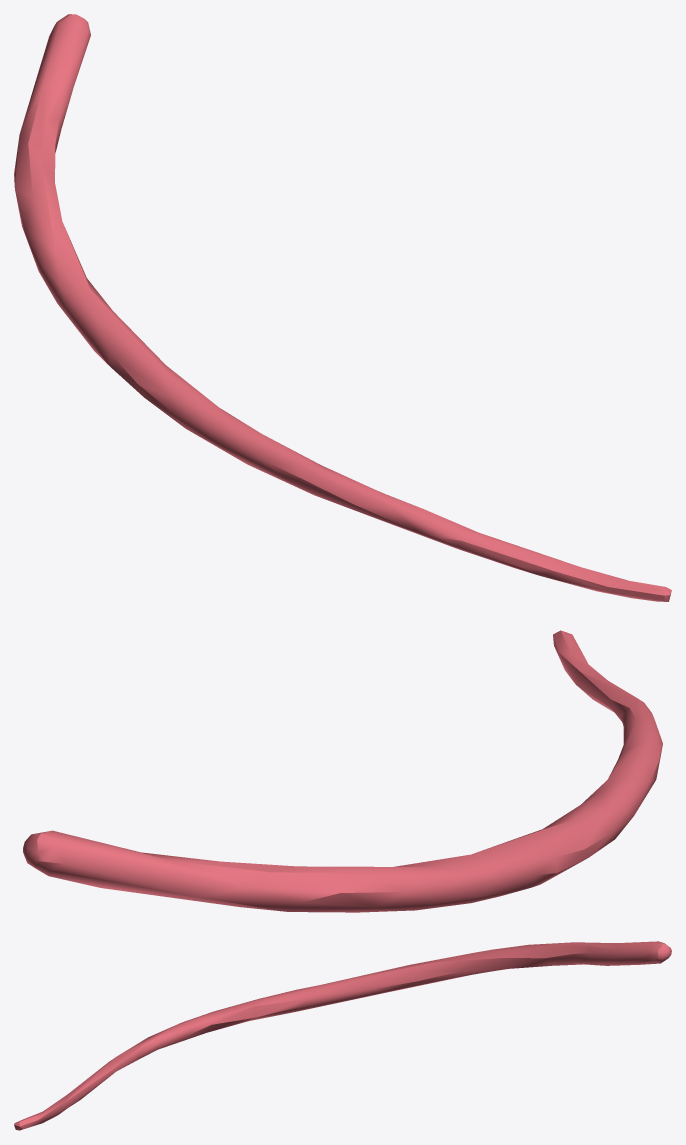
The model's file is fma51001_fj5093.glb.
3 renders of one model, top to bottom at view 1: azimuth 30°, elevation 25°; view 2: azimuth 150°, elevation 25°; view 3: azimuth 270°, elevation 25°, orthographic. The views are drawn at different scales.
Parts seen in each view (by area): view 1: FMA51001_FJ5093; view 2: FMA51001_FJ5093; view 3: FMA51001_FJ5093.
Part boxes in pixels (<box>): FMA51001_FJ5093: <box>14,14,671,601</box>; FMA51001_FJ5093: <box>23,630,662,912</box>; FMA51001_FJ5093: <box>14,941,671,1130</box>.
Size of the model in its own units: 0.0108 by 0.00891 by 0.0336.
